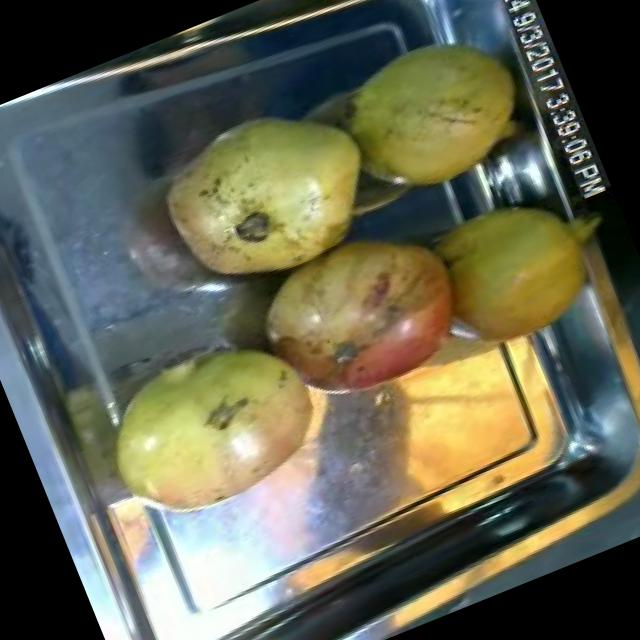fruit: (68, 303, 350, 549), (130, 70, 406, 318), (227, 200, 495, 432), (316, 9, 548, 219), (410, 172, 620, 370)
